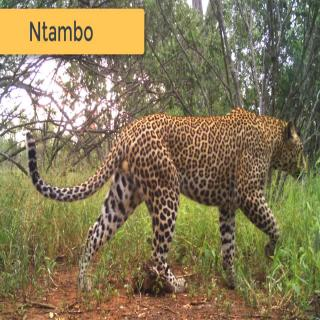Leopard: (16, 74, 320, 284)
